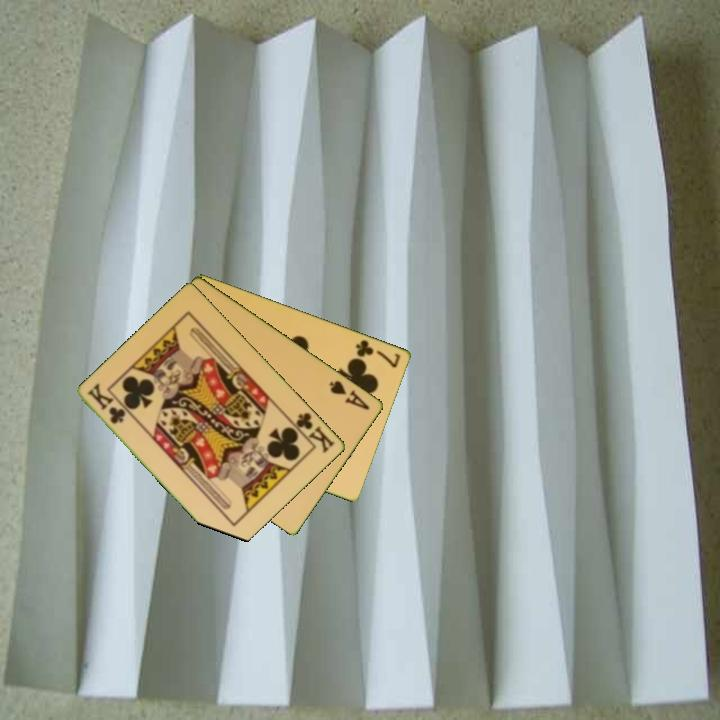7c: (352, 336, 404, 371)
As: (326, 377, 373, 413)
Kc: (287, 409, 338, 456), (84, 380, 129, 427)
